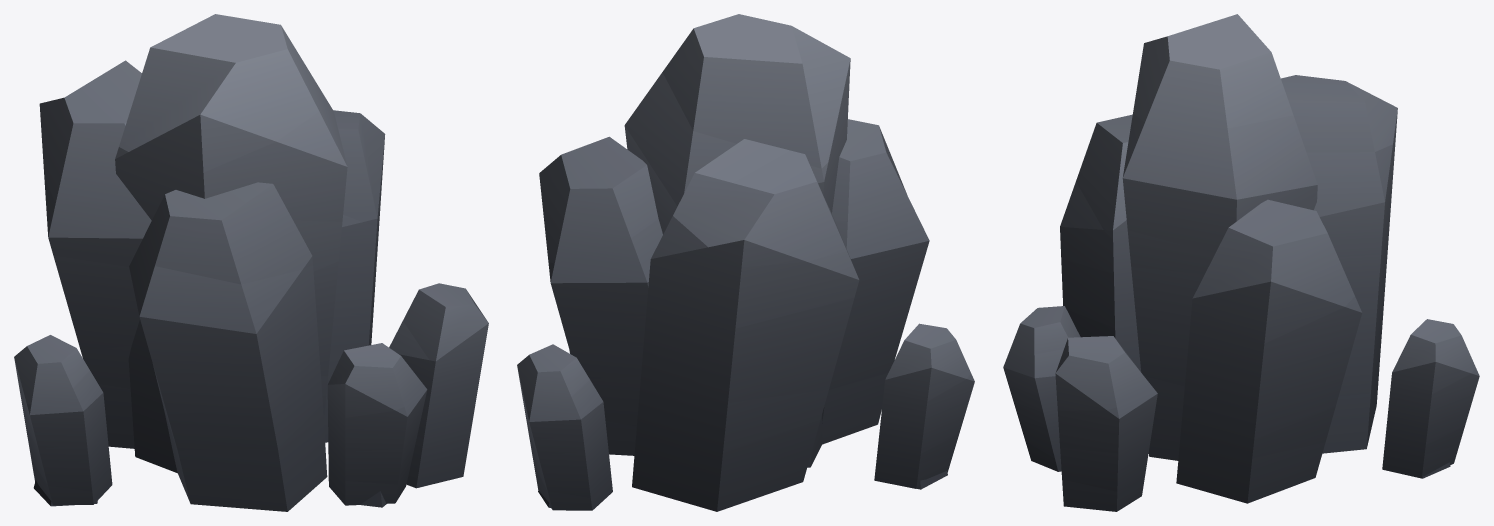
The model's file is Stone_1.fbx.
3 renders of one model, left to right at view 1: azimuth 30°, elevation 25°; view 2: azimuth 150°, elevation 25°; view 3: azimuth 270°, elevation 25°, orthographic. The views are drawn at different scales.
Visible parts, largest first — view 1: Stone_1; view 2: Stone_1; view 3: Stone_1.
Part boxes in pixels (box(x1,y1,x2,y2)): Stone_1: box(14, 14, 488, 511); Stone_1: box(517, 14, 974, 511); Stone_1: box(1003, 14, 1479, 511).
Size of the model in its own units: 1.3 by 1.38 by 1.25.
